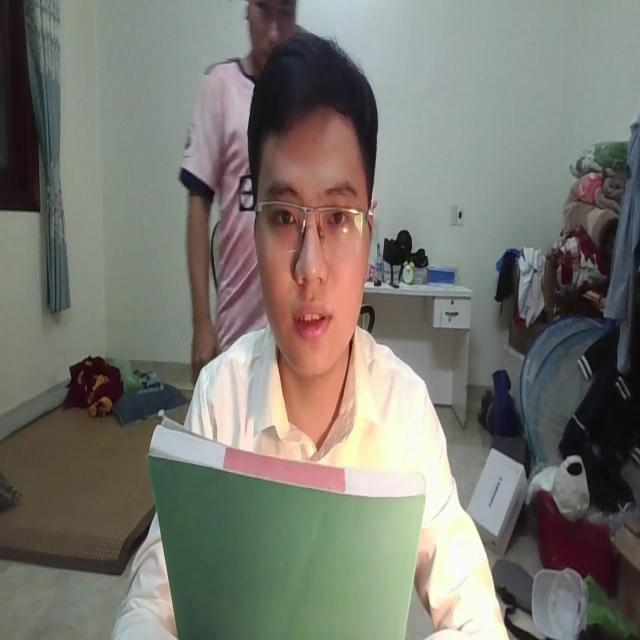book: (142, 393, 427, 640)
extra_person: (170, 0, 304, 376)
student: (114, 28, 504, 640)
